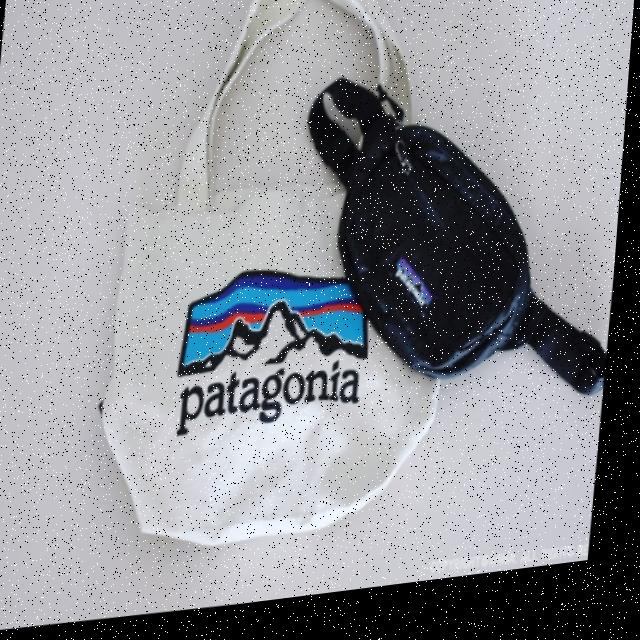ecobag: (67, 0, 500, 586)
